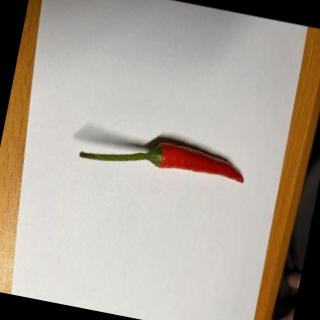Cabai Merah: (78, 126, 249, 189)
